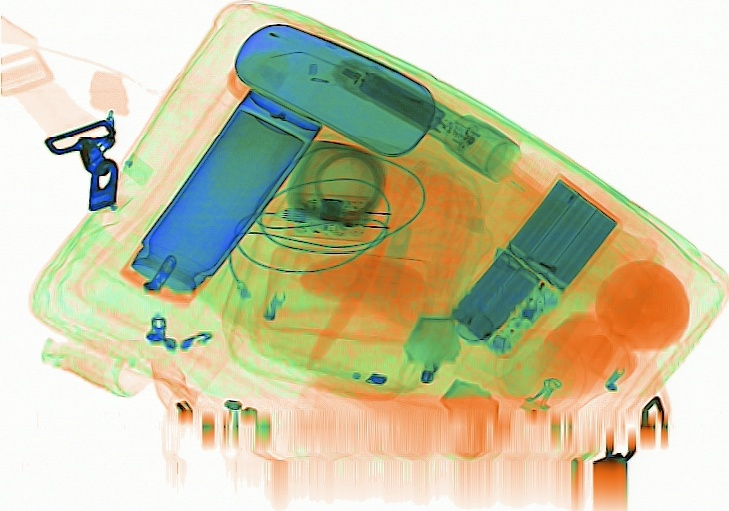powerbank: (447, 173, 621, 357)
